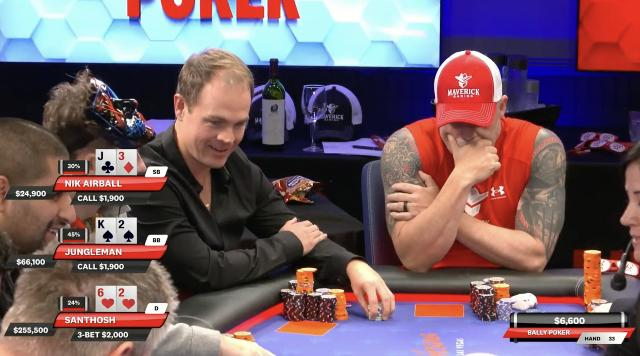2H: (115, 287, 136, 313)
2S: (117, 219, 137, 243)
3D: (115, 150, 136, 176)
6H: (96, 288, 115, 312)
JC: (96, 150, 116, 176)
KS: (95, 218, 115, 244)
